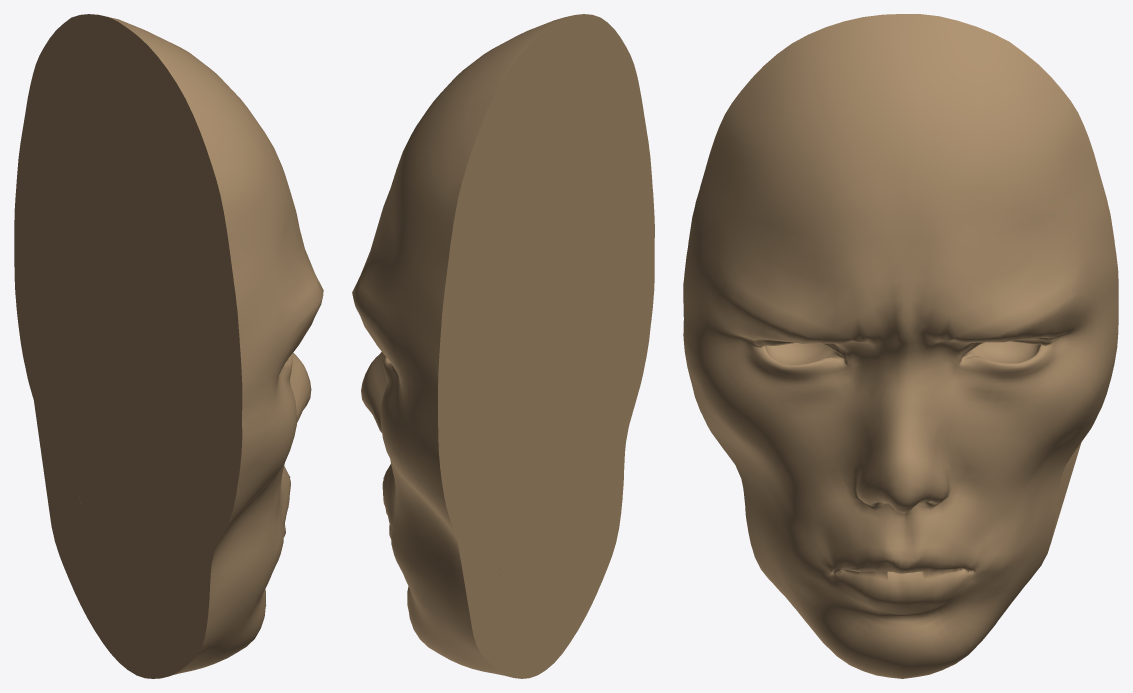
The model's file is head302.fbx.
3 views of the same model, side by side, from view 1: azimuth 30°, elevation 25°; view 2: azimuth 150°, elevation 25°; view 3: azimuth 270°, elevation 25° (orthographic). The views are drawn at different scales.
Visible parts, largest first — view 1: HG_Body.011; view 2: HG_Body.011; view 3: HG_Body.011.
Part boxes in pixels (x1=…): HG_Body.011: x1=14, y1=14, x2=323, y2=678; HG_Body.011: x1=352, y1=14, x2=654, y2=678; HG_Body.011: x1=683, y1=14, x2=1118, y2=678.
Size of the model in its own units: 6.56 by 21.87 by 13.75.
